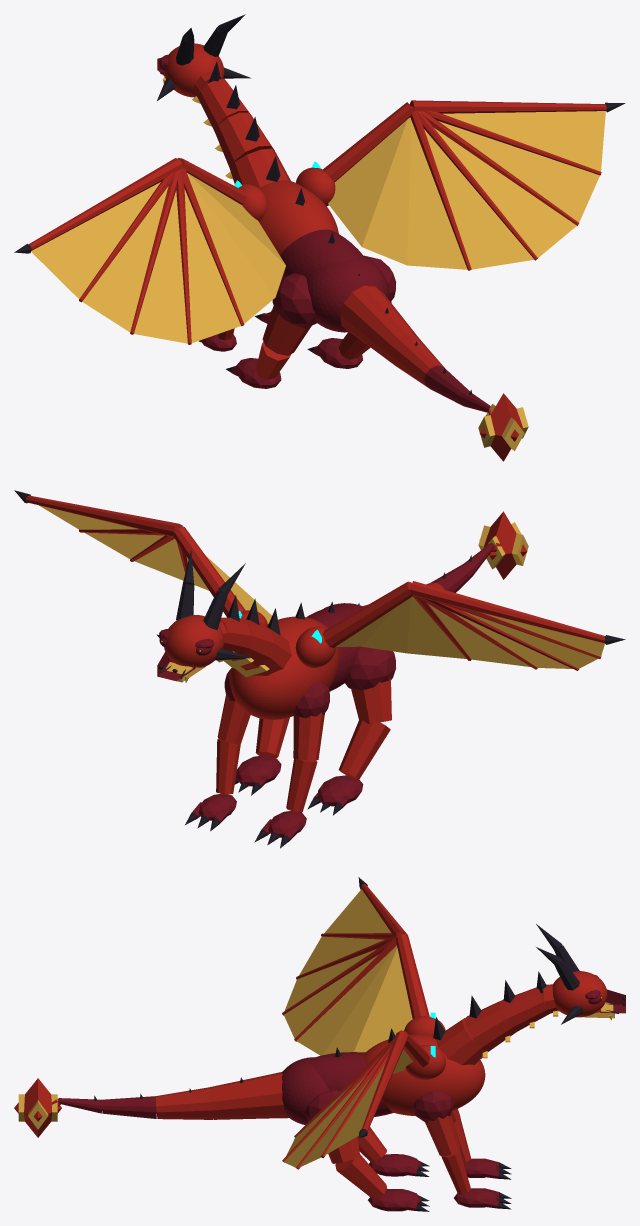
The model's file is skyknit-dragon.glb.
3 views of the same model, one above another, from view 1: azimuth 30°, elevation 25°; view 2: azimuth 150°, elevation 25°; view 3: azimuth 270°, elevation 25° (orthographic). The views are drawn at different scales.
Parts seen in each view (by area): view 1: Dragon_Wing_R, Dragon_Wing_L, Dragon_Body, Dragon_Head, Dragon_Tail_5, Dragon_Tail_2, Dragon_Tail_3, Dragon_Tail_4, Dragon_Tail_1; view 2: Dragon_Body, Dragon_Wing_L, Dragon_Wing_R, Dragon_Head, Dragon_Tail_5, Dragon_Tail_4; view 3: Dragon_Body, Dragon_Wing_L, Dragon_Wing_R, Dragon_Head, Dragon_Tail_2, Dragon_Tail_5, Dragon_Tail_3, Dragon_Tail_4, Dragon_Tail_1.
Boxes of the visible parts, left/top/right/bottom form: Dragon_Wing_R: left=296, top=100, right=625, bottom=270; Dragon_Wing_L: left=14, top=158, right=285, bottom=344; Dragon_Body: left=192, top=61, right=396, bottom=388; Dragon_Head: left=157, top=14, right=251, bottom=100; Dragon_Tail_5: left=459, top=390, right=528, bottom=461; Dragon_Tail_2: left=351, top=298, right=418, bottom=362; Dragon_Tail_3: left=387, top=333, right=444, bottom=387; Dragon_Tail_4: left=424, top=365, right=469, bottom=405; Dragon_Tail_1: left=339, top=273, right=391, bottom=338; Dragon_Body: left=185, top=595, right=395, bottom=848; Dragon_Wing_L: left=295, top=581, right=625, bottom=670; Dragon_Wing_R: left=14, top=490, right=271, bottom=625; Dragon_Head: left=157, top=550, right=250, bottom=681; Dragon_Tail_5: left=463, top=511, right=528, bottom=579; Dragon_Tail_4: left=431, top=564, right=473, bottom=592; Dragon_Body: left=282, top=971, right=558, bottom=1211; Dragon_Wing_L: left=282, top=877, right=445, bottom=1055; Dragon_Wing_R: left=282, top=1030, right=445, bottom=1169; Dragon_Head: left=536, top=924, right=625, bottom=1024; Dragon_Tail_2: left=210, top=1075, right=268, bottom=1119; Dragon_Tail_5: left=14, top=1078, right=102, bottom=1137; Dragon_Tail_3: left=155, top=1087, right=213, bottom=1119; Dragon_Tail_4: left=102, top=1094, right=156, bottom=1118; Dragon_Tail_1: left=263, top=1066, right=290, bottom=1118.
Bounding box in the file's own units: 12.28 × 5.64 × 12.18.
